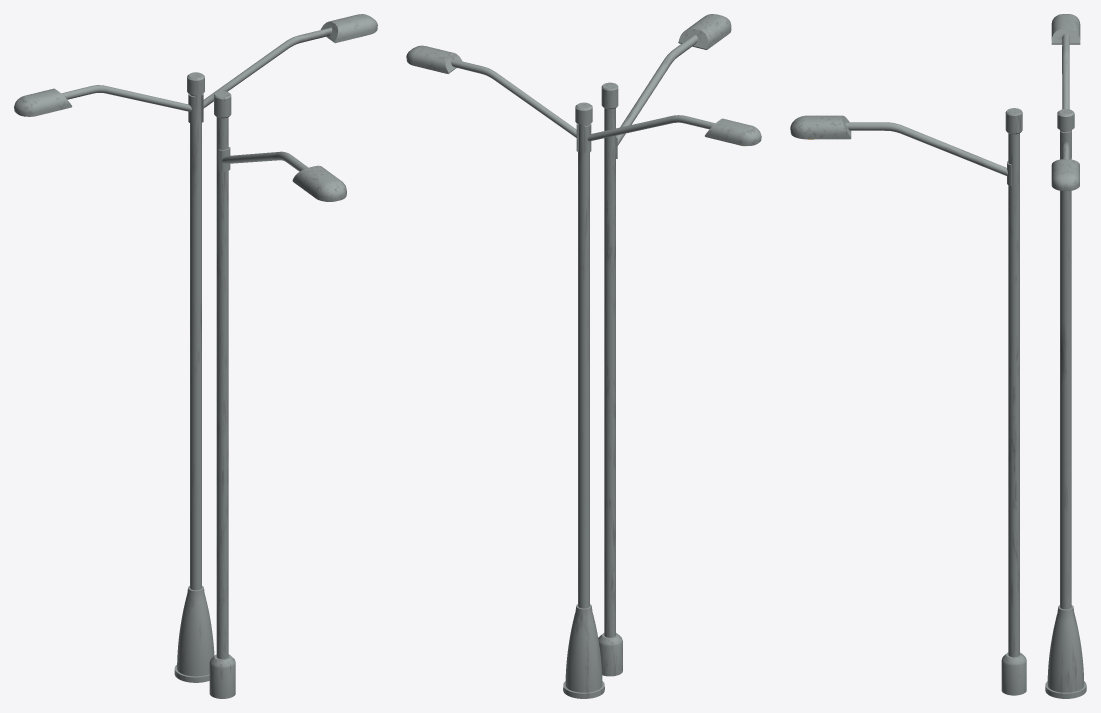
File: street_light_pack.glb
The picture shows the model from 3 angles, left to right: view 1: azimuth 30°, elevation 25°; view 2: azimuth 150°, elevation 25°; view 3: azimuth 270°, elevation 25°; orthographic projection. The views are drawn at different scales.
Parts seen in each view (by area): view 1: Street Light 2_1, Street Light 1_0; view 2: Street Light 2_1, Street Light 1_0; view 3: Street Light 2_1, Street Light 1_0.
Part boxes in pixels (box(x1,y1,x2,y2)): Street Light 2_1: box(14, 14, 377, 682); Street Light 1_0: box(209, 91, 346, 698); Street Light 2_1: box(406, 45, 761, 698); Street Light 1_0: box(598, 14, 731, 676); Street Light 2_1: box(1045, 14, 1086, 698); Street Light 1_0: box(790, 108, 1026, 695).
Bounding box in the file's own units: 3.46 × 5.68 × 2.56.
Materials: 4 (4 with a texture image).
